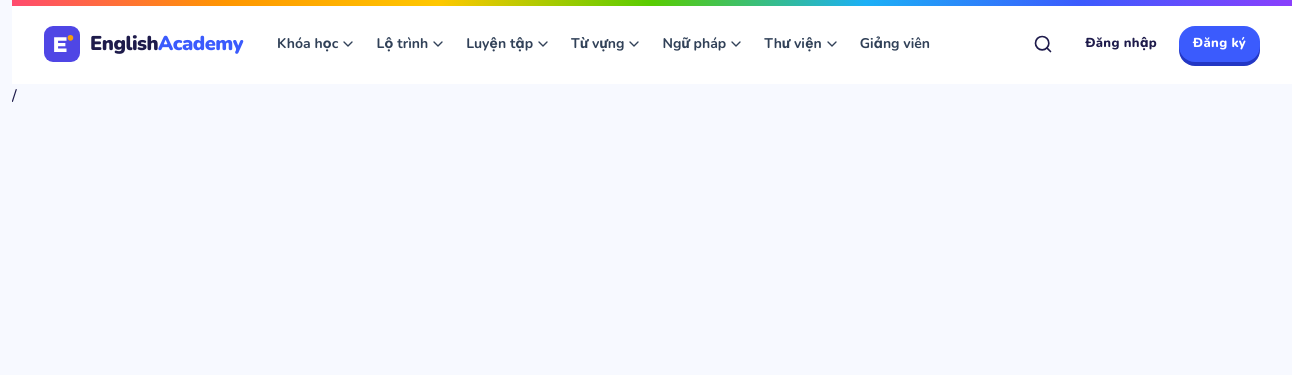
Test case: Header › chuột: rời khỏi mục menu thì mega menu đóng
Step 1. Hover over the button "Khóa học" → (317, 44), box [267, 26, 366, 62]
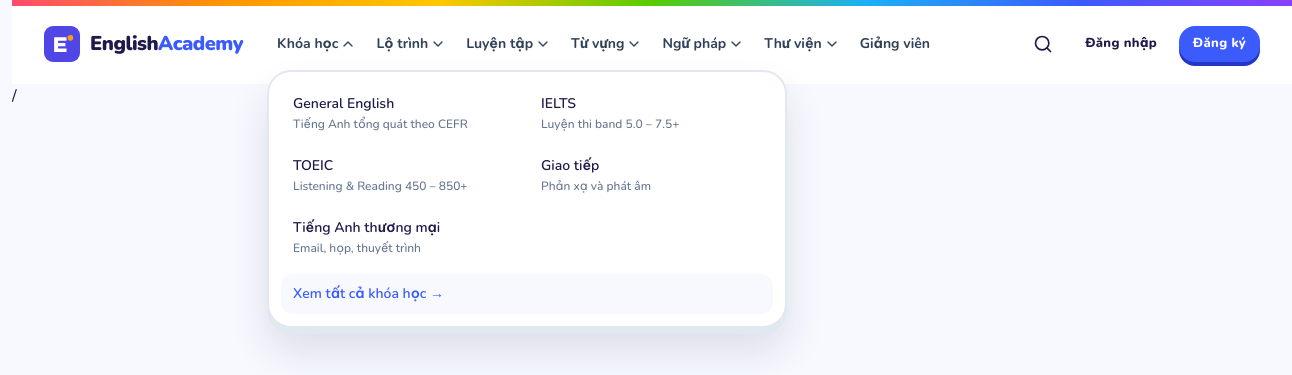
Expected: the button "Khóa học" is expanded
Step 2. Move the pointer off the button "Khóa học", box [267, 26, 366, 62]
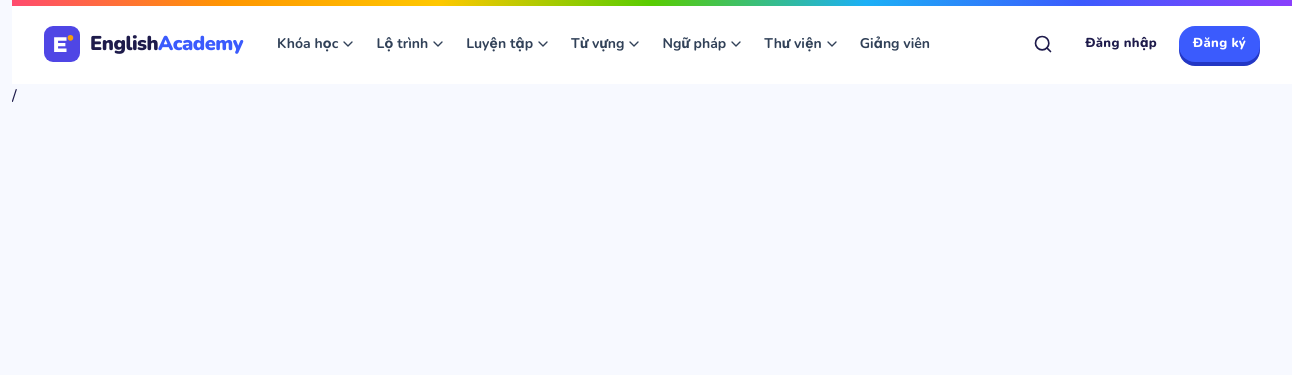
Expected: the button "Khóa học" is collapsed, [267, 26, 366, 62]
